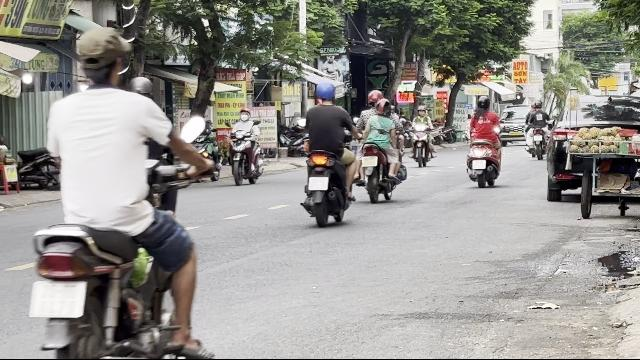helmet: (312, 80, 336, 104), (130, 76, 152, 98), (367, 89, 383, 105), (376, 98, 388, 114), (240, 108, 250, 120)
licenseplate: (29, 281, 86, 317), (308, 178, 328, 190), (361, 156, 377, 168)
motorcyclist: (22, 23, 218, 357), (298, 79, 358, 225), (356, 89, 406, 203), (228, 108, 264, 184)
nohelmet: (78, 27, 138, 92)
